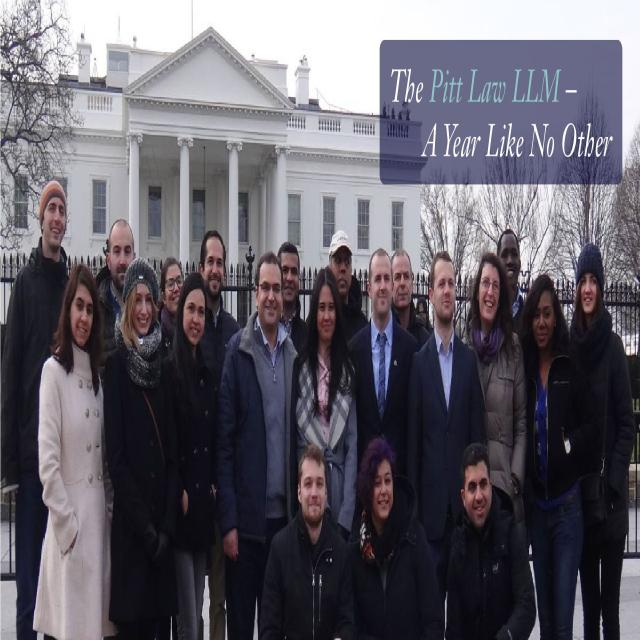body: (0, 178, 72, 640), (216, 250, 301, 640), (33, 262, 114, 640), (506, 266, 586, 640), (101, 255, 174, 639), (568, 241, 637, 640), (409, 250, 485, 611), (163, 270, 217, 640), (460, 248, 528, 535), (259, 442, 355, 640), (344, 437, 436, 639), (444, 441, 537, 640), (198, 226, 242, 640), (292, 265, 358, 539), (346, 246, 415, 477), (93, 215, 138, 379), (328, 227, 370, 349), (391, 245, 432, 348), (275, 240, 308, 354), (497, 227, 526, 348), (156, 254, 184, 340), (415, 291, 431, 323)
